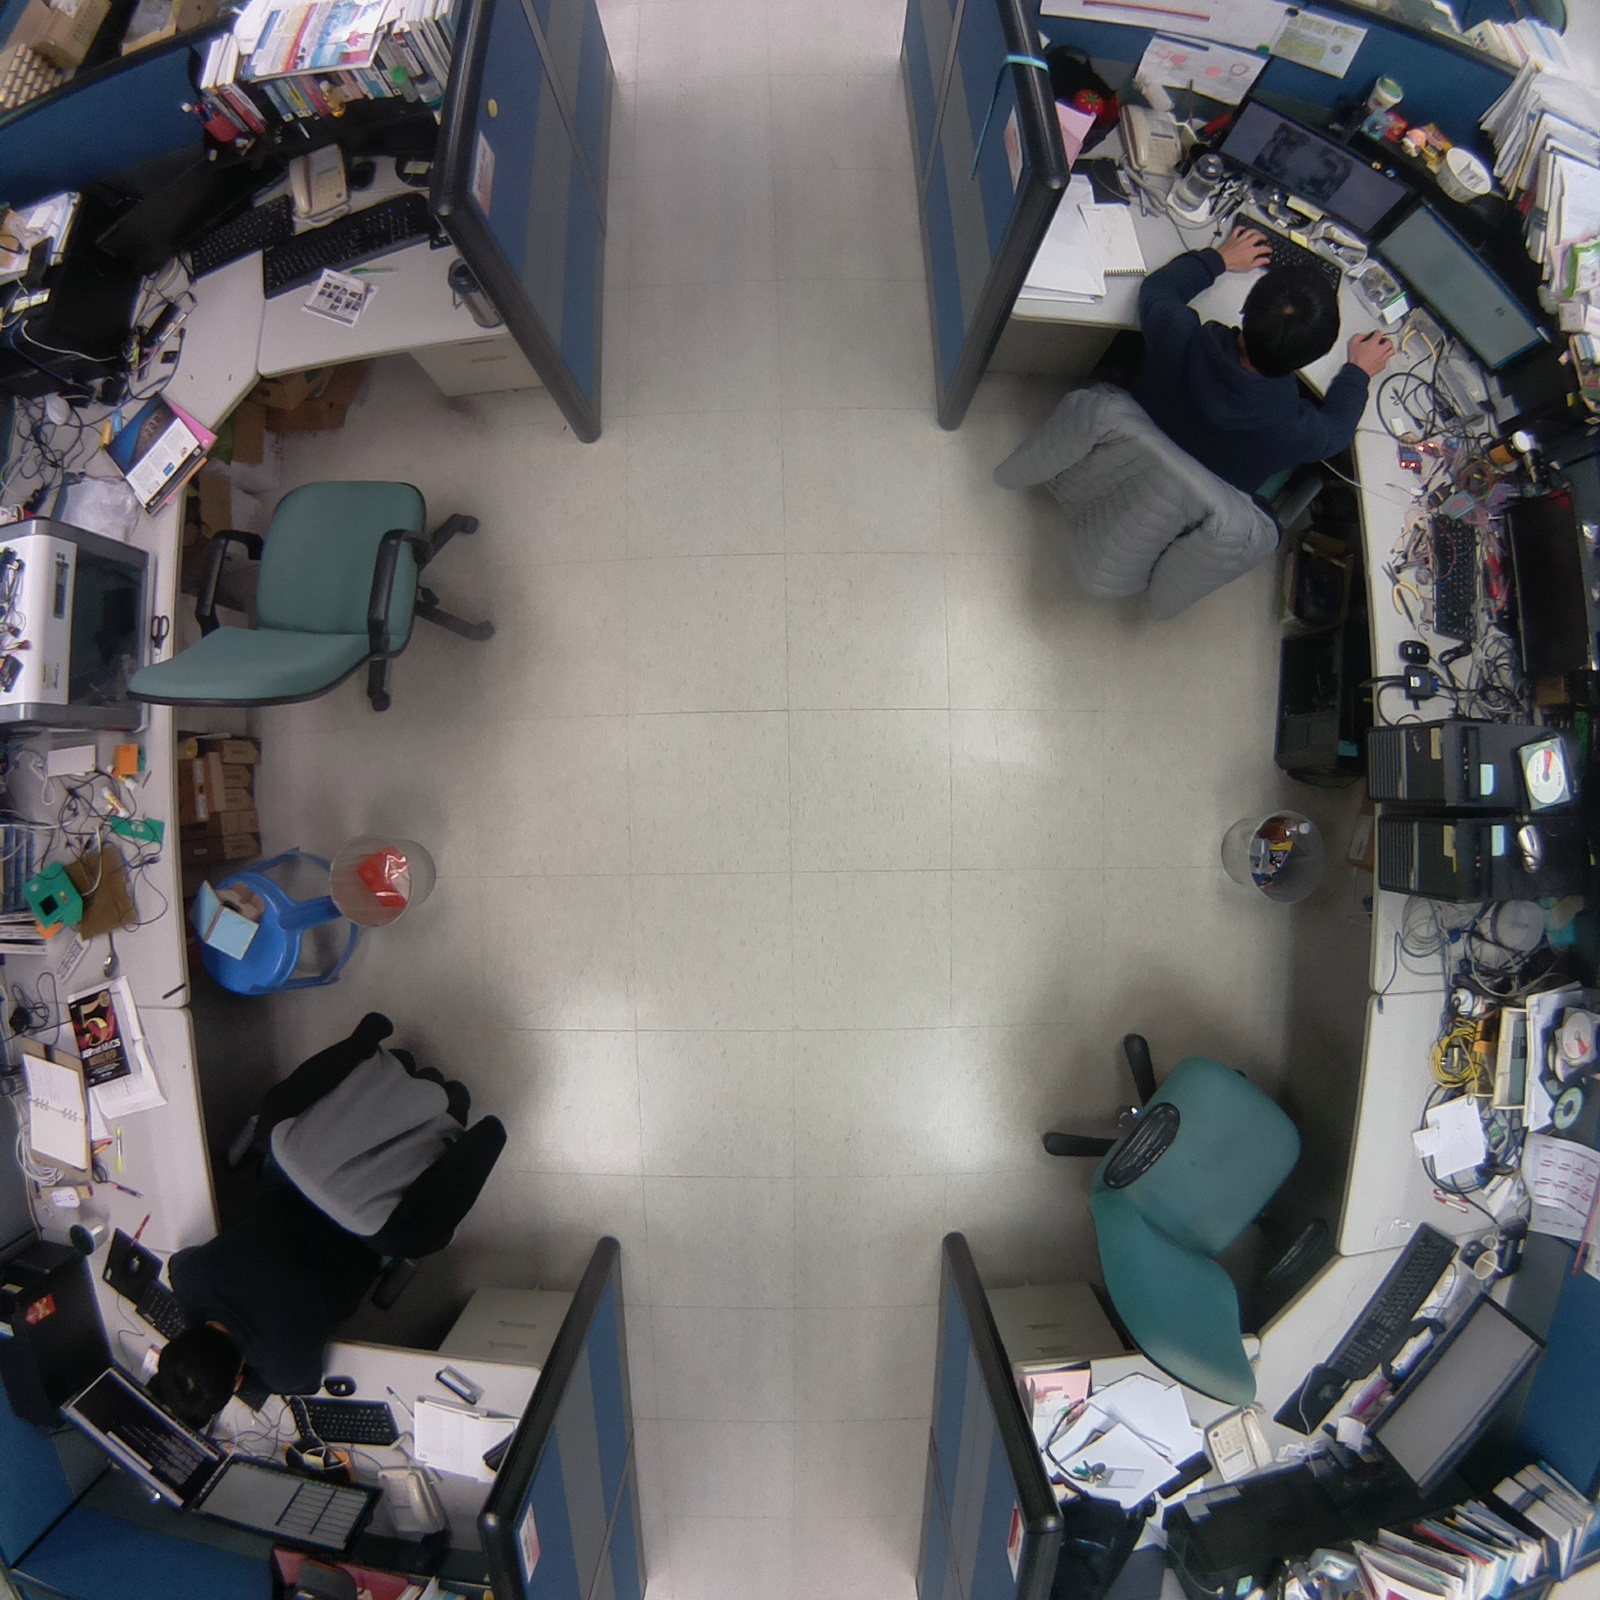chair: (1032, 1020, 1314, 1429), (111, 460, 510, 724)
sitting: (983, 215, 1408, 634), (132, 999, 517, 1433)
